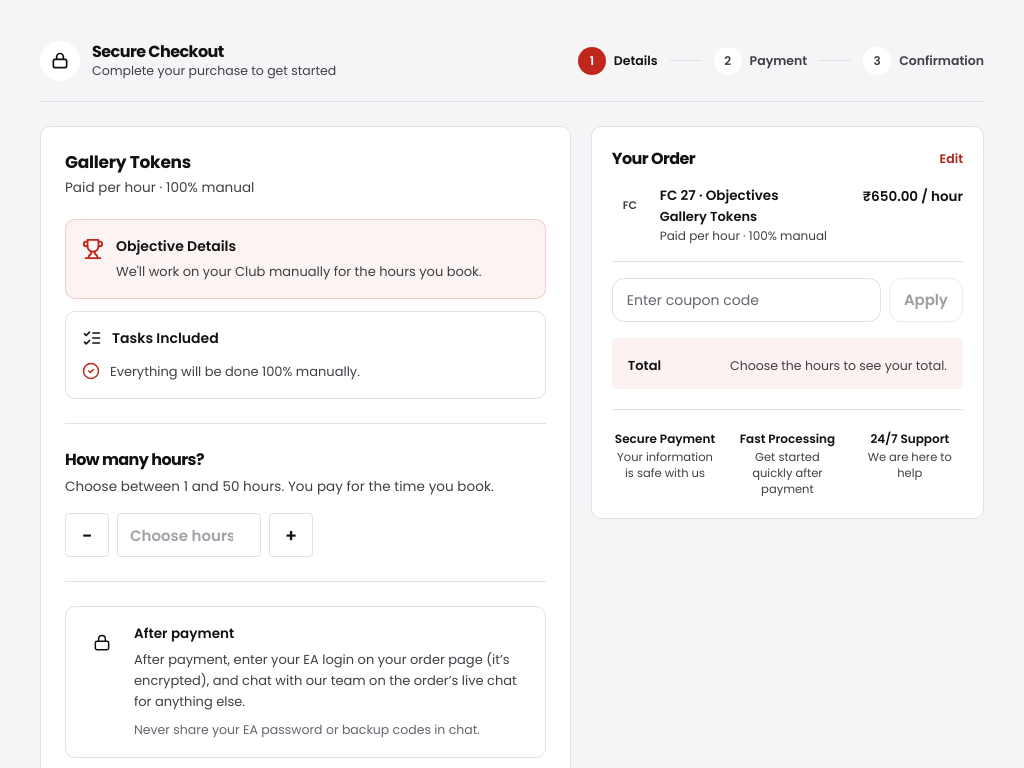
an objective sold by the hour › prices nothing until the hours are chosen, then shows the sum before Continue
This screenshot has width=1024, height=768.
Expected: the element with test id "hours-picker" is shown, x1=65 y1=423 x2=546 y2=558
Expected: the element with test id "summary-total" reads "Choose the hours to see your total.", x1=730 y1=357 x2=947 y2=374
In the number field labelled "hours": (189, 536) x1=117 y1=514 x2=261 y2=558, type "3"
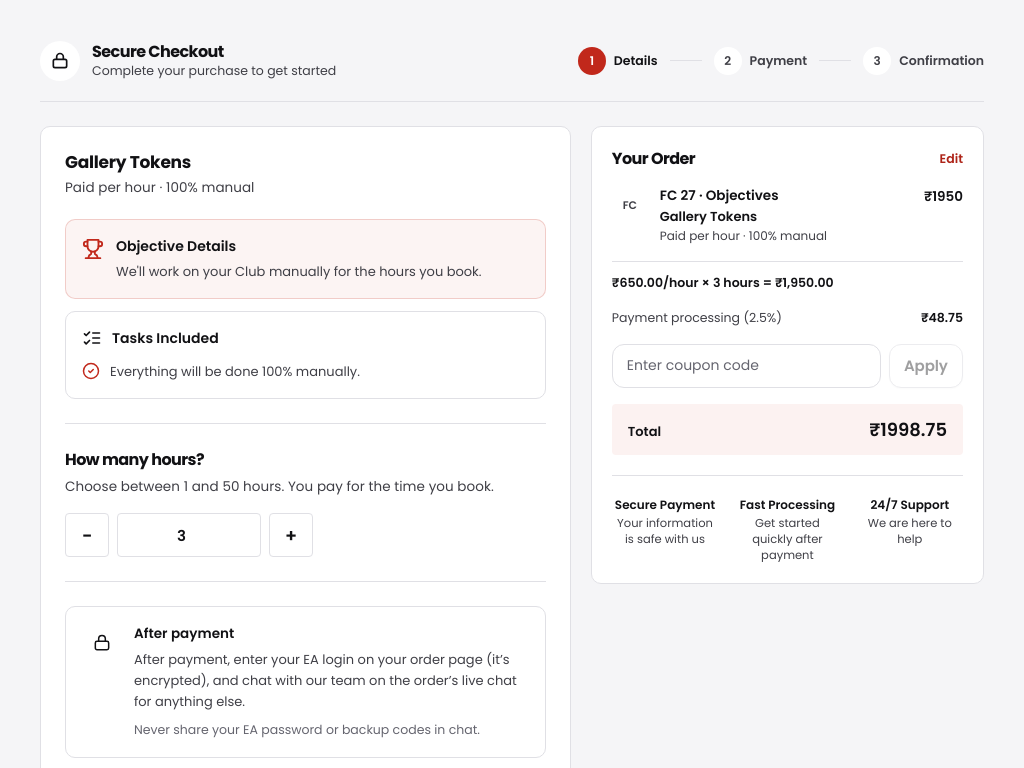
Result: the text with test id "hourly-calculation" reads "₹650.00/hour × 3 hours = ₹1,950.00" at x1=612 y1=274 x2=834 y2=291
